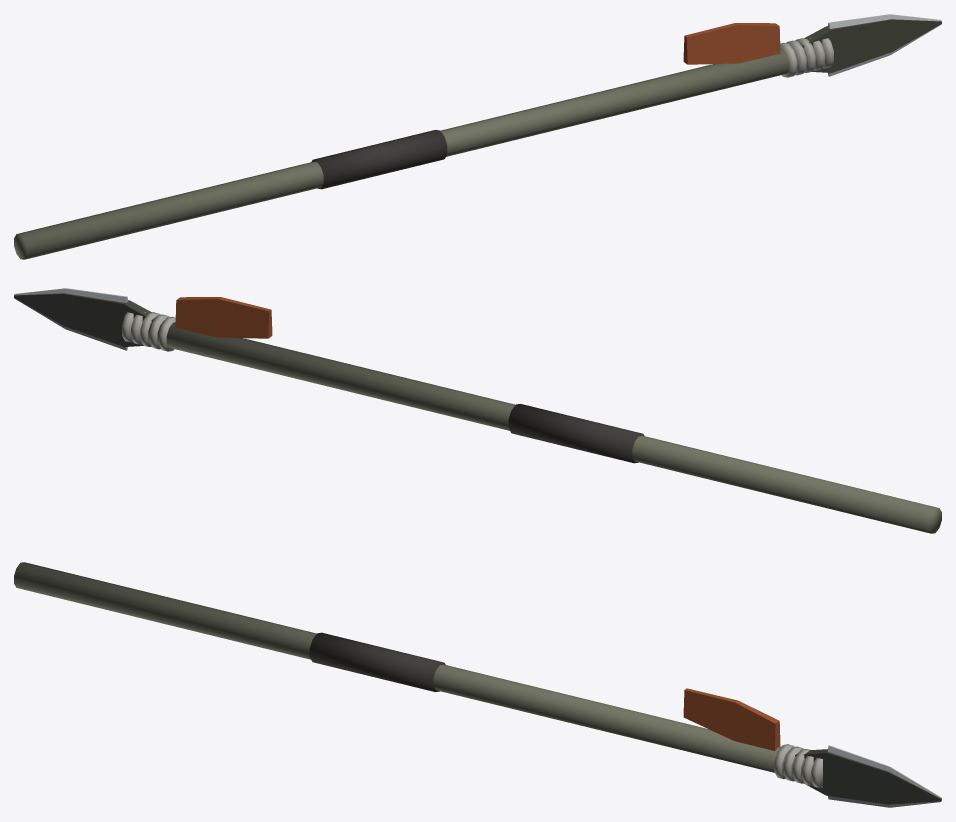
Rendered from held_spear.glb.
3 renders of one model, top to bottom at view 1: azimuth 30°, elevation 25°; view 2: azimuth 150°, elevation 25°; view 3: azimuth 330°, elevation 25°, orthographic.
Visible parts, largest first — view 1: shaft, grip, blade, rag, edge_a; view 2: shaft, grip, blade, rag, edge_a; view 3: shaft, grip, blade, rag, edge_a.
Part boxes in pixels (bbox=[...]): shaft: bbox=[14, 46, 807, 259]; grip: bbox=[311, 130, 447, 189]; blade: bbox=[799, 19, 941, 72]; rag: bbox=[683, 23, 780, 64]; edge_a: bbox=[827, 14, 941, 28]; shaft: bbox=[148, 320, 941, 533]; grip: bbox=[508, 404, 644, 463]; blade: bbox=[14, 293, 156, 346]; rag: bbox=[175, 297, 272, 338]; edge_a: bbox=[14, 288, 128, 302]; shaft: bbox=[14, 562, 804, 776]; grip: bbox=[309, 632, 445, 691]; blade: bbox=[795, 749, 941, 804]; rag: bbox=[683, 688, 780, 750]; edge_a: bbox=[827, 745, 941, 799].
Bounding box in the file's own units: 1.8 × 0.14 × 0.0567.
